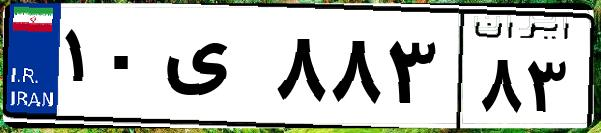0: (110, 28, 158, 98)
1: (57, 26, 110, 100)
3: (385, 28, 445, 110), (525, 38, 570, 115)
8: (270, 28, 330, 110), (330, 28, 385, 110), (475, 38, 525, 113)
ی: (158, 20, 270, 120)
